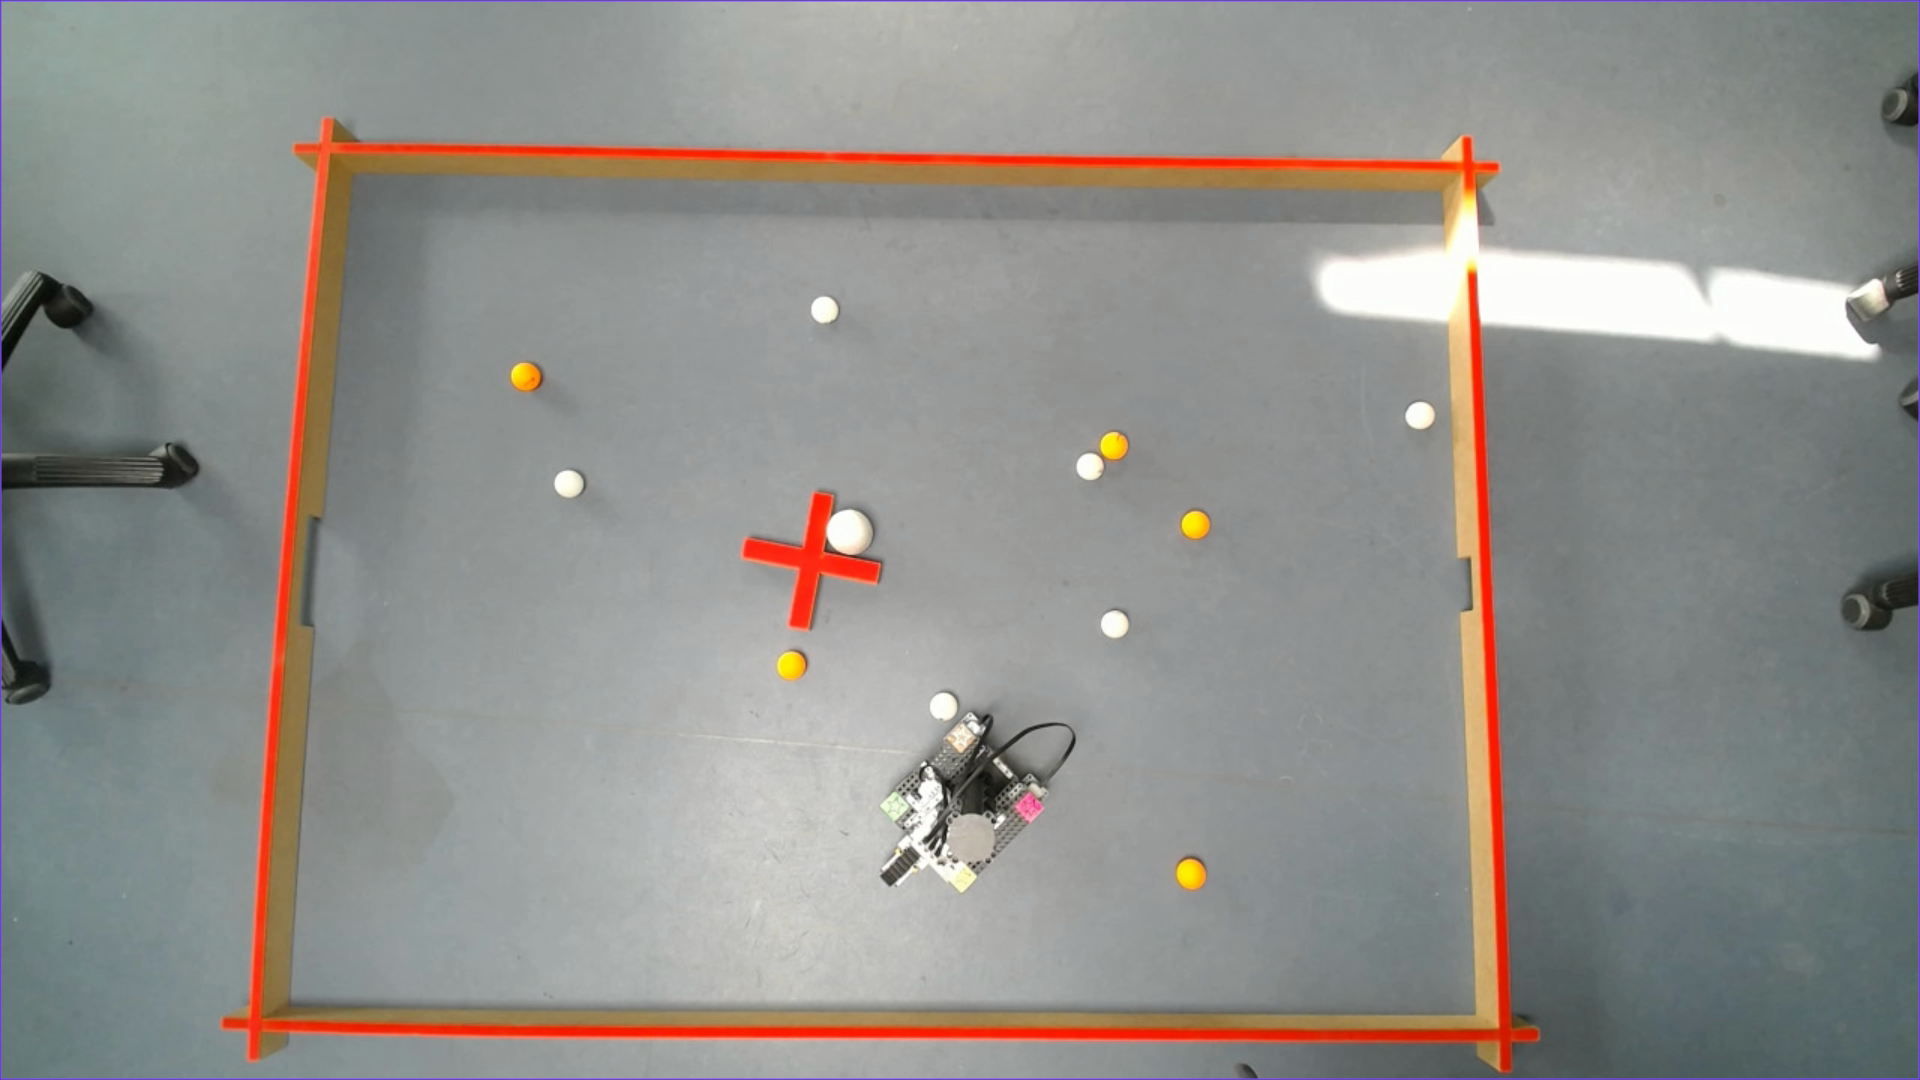ball_orange: (1175, 857, 1207, 891), (775, 650, 806, 680), (510, 363, 541, 392), (1182, 509, 1211, 539), (1098, 431, 1127, 459)
ball_white: (1098, 609, 1129, 640), (553, 469, 584, 498), (1404, 401, 1435, 430), (928, 692, 957, 721), (1073, 454, 1104, 481), (810, 295, 839, 323)
corner_brown: (945, 721, 976, 752)
corner_green: (880, 791, 909, 820)
corner_pink: (1014, 793, 1043, 822)
corner_yellow: (949, 864, 976, 891)
cross: (740, 492, 882, 632)
egg: (825, 506, 874, 554)
playfield: (227, 146, 1518, 1059)
playfield_corner: (229, 1000, 280, 1047), (1445, 144, 1494, 191), (309, 125, 357, 171), (1478, 1007, 1527, 1054)
